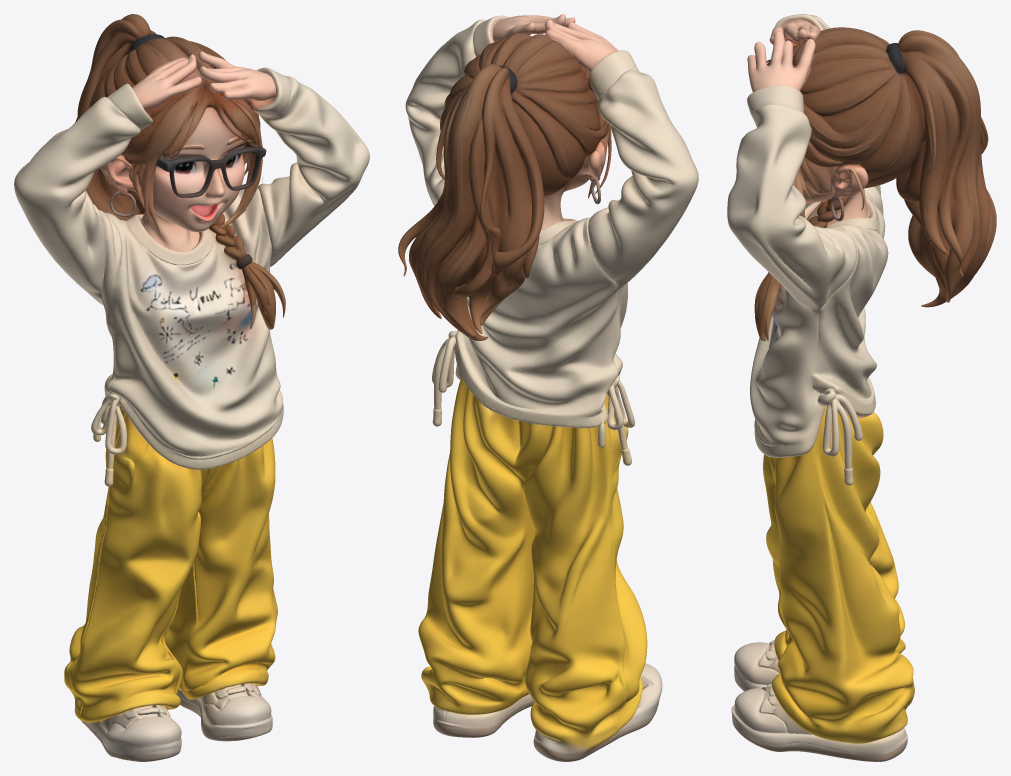
The model's file is memory-04.glb.
3 views of the same model, side by side, from view 1: azimuth 30°, elevation 25°; view 2: azimuth 150°, elevation 25°; view 3: azimuth 270°, elevation 25° (orthographic). The views are drawn at different scales.
Visible parts, largest first — view 1: model; view 2: model; view 3: model.
Boxes of the visible parts, x1,y1,x2,y2 form: model: (14,14,369,761); model: (398,14,698,761); model: (727,14,996,761).
Size of the model in its own units: 0.9148 by 1.9 by 0.6651.
Materials: 1 (1 with a texture image).
